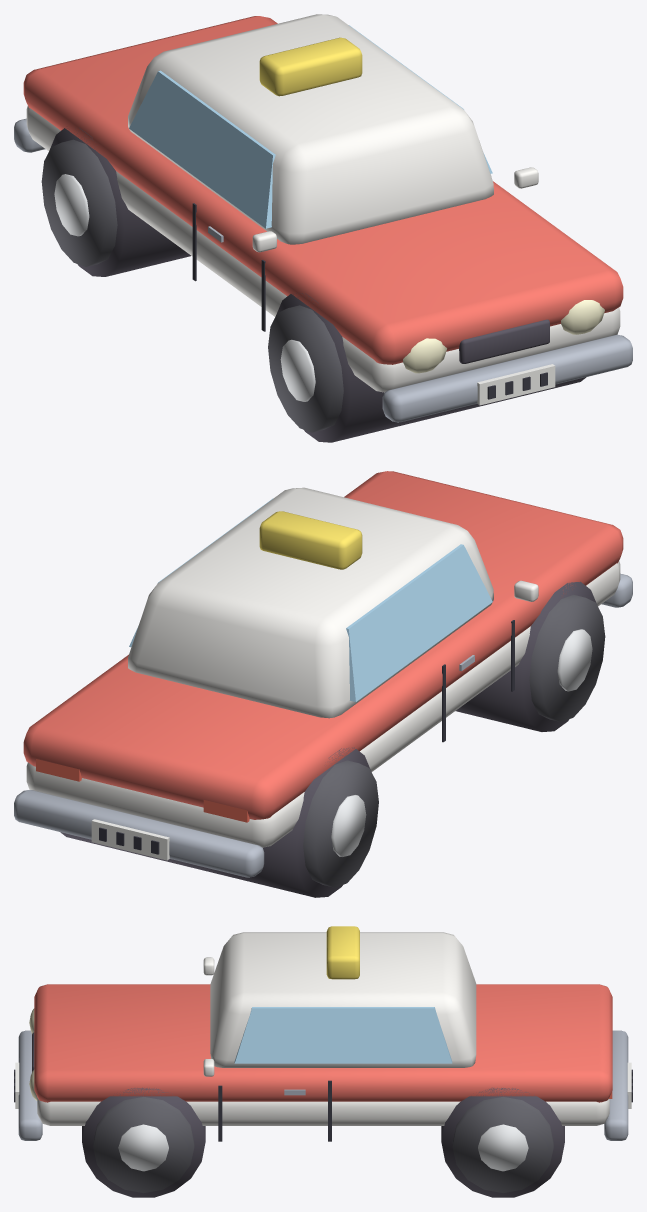
Rendered from Car_Teksi.fbx.
3 views of the same model, one above another, from view 1: azimuth 30°, elevation 25°; view 2: azimuth 150°, elevation 25°; view 3: azimuth 270°, elevation 25° (orthographic). The views are drawn at different scales.
Parts seen in each view (by area): view 1: Body, Wheel_FL, Wheel_RL; view 2: Body, Wheel_RL, Wheel_FL; view 3: Body, Wheel_FR, Wheel_RR.
Boxes of the visible parts, x1,y1,x2,y2 form: Body: [14, 14, 632, 442]; Wheel_FL: [268, 305, 343, 432]; Wheel_RL: [41, 139, 117, 266]; Body: [14, 471, 632, 897]; Wheel_RL: [303, 760, 378, 887]; Wheel_FL: [529, 594, 605, 721]; Body: [14, 926, 632, 1197]; Wheel_FR: [93, 1096, 194, 1192]; Wheel_RR: [452, 1096, 553, 1192].
Size of the model in its own units: 1.94 by 1.73 by 4.65.
